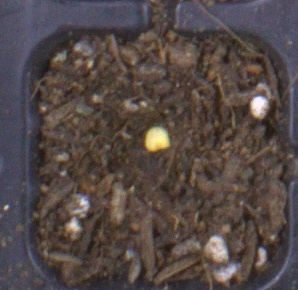chilli seed: (144, 125, 171, 152)
